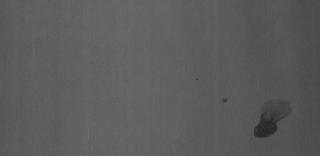oil spot: (252, 97, 294, 141), (220, 96, 228, 105)
